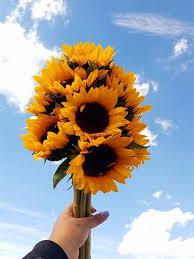sunflower: (19, 40, 152, 196)
